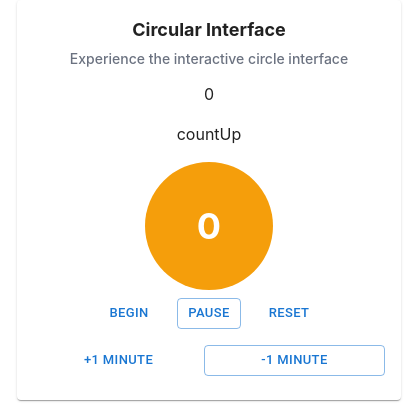
Test: Timer › resets timer count and stops the timer when reset button is clicked
Check: the text with test id "timer-count" reads "0", box x1=197 y1=204 x2=221 y2=248
 タイマーを開始
Click the button with test id "timer-begin-button".
click(129, 313)  # box x1=97 y1=298 x2=161 y2=329
Wait 1000 ms
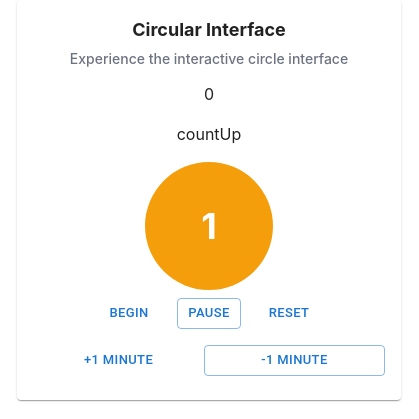
Check: the text with test id "timer-count" reads "1", box x1=201 y1=204 x2=217 y2=248
リセットボタンをクリック
Click the button with test id "timer-reset-button".
click(289, 313)  # box x1=257 y1=298 x2=321 y2=329
Wait 1000 ms
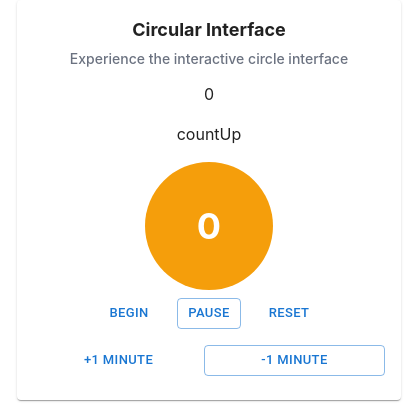
Check: the text with test id "timer-count" reads "0", box x1=197 y1=204 x2=221 y2=248
